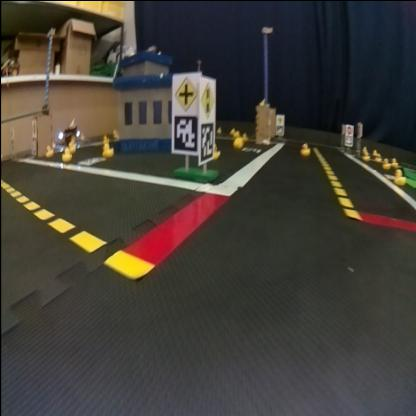Duckie: (394, 168, 406, 182), (101, 142, 114, 154), (62, 148, 71, 160), (302, 142, 310, 154), (214, 142, 220, 156), (234, 136, 242, 146), (46, 146, 52, 156), (384, 156, 390, 166), (363, 152, 369, 160)
Intersection sign: (174, 74, 196, 110)
QR code: (173, 114, 197, 150), (200, 124, 214, 160)
Signal sign: (200, 80, 215, 118)
